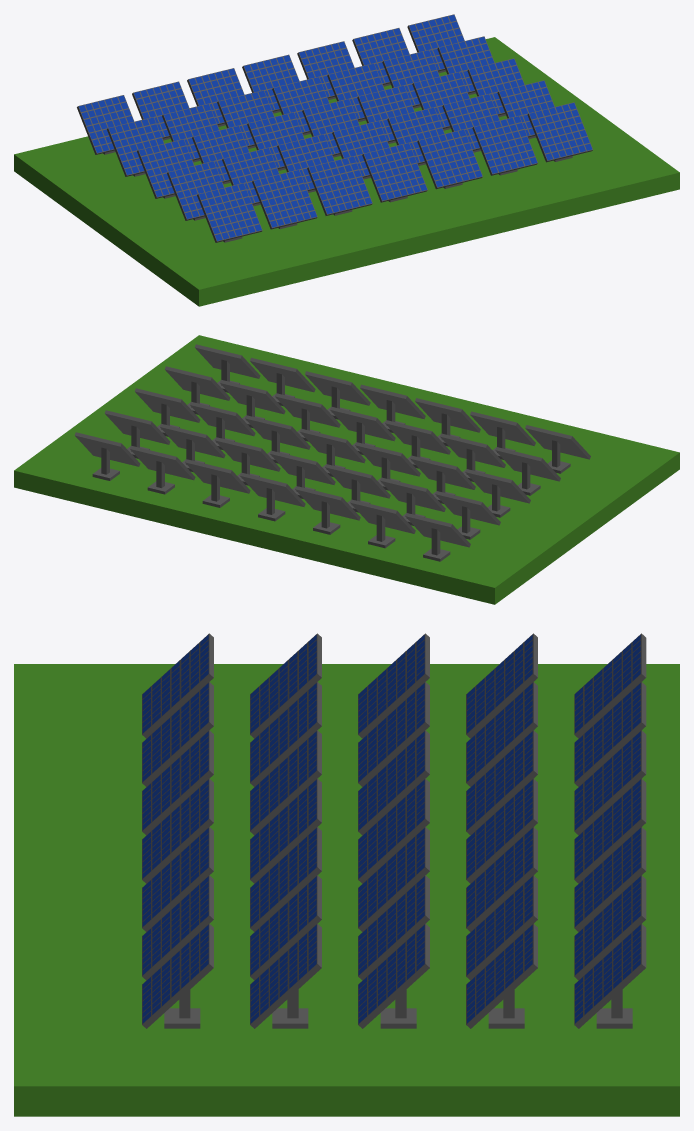
The model's file is Solar Panels.fbx.
3 renders of one model, top to bottom at view 1: azimuth 30°, elevation 25°; view 2: azimuth 150°, elevation 25°; view 3: azimuth 270°, elevation 25°, orthographic. The views are drawn at different scales.
Parts seen in each view (by area): view 1: pannels, base.001; view 2: base.001, pannels; view 3: base.001, pannels.
Boxes of the visible parts, x1,y1,x2,y2 form: pannels: [77, 14, 592, 242]; base.001: [14, 37, 679, 306]; base.001: [14, 335, 679, 604]; pannels: [74, 344, 590, 561]; base.001: [14, 664, 679, 1116]; pannels: [142, 633, 646, 1028].
Size of the model in its own units: 836 by 99.73 by 558.
